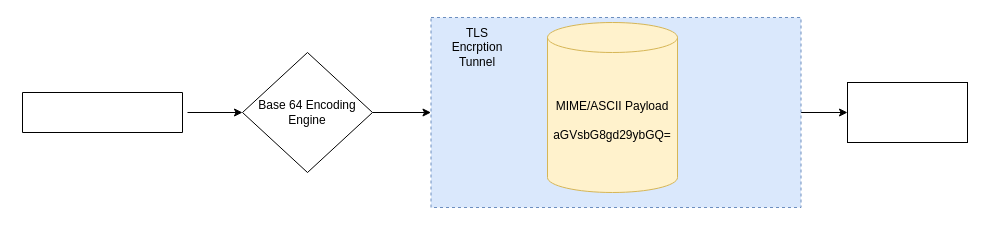
Image size: 985x225. Some labels were removed from this diagram. The shapes that lost their labels are listed below. From the top down, each one's centre as x and y in pixels, then its label:
At point 102,112: "Source: Attachment (Binary)".
At point 907,112: "SMTP Server(Receipent)".
